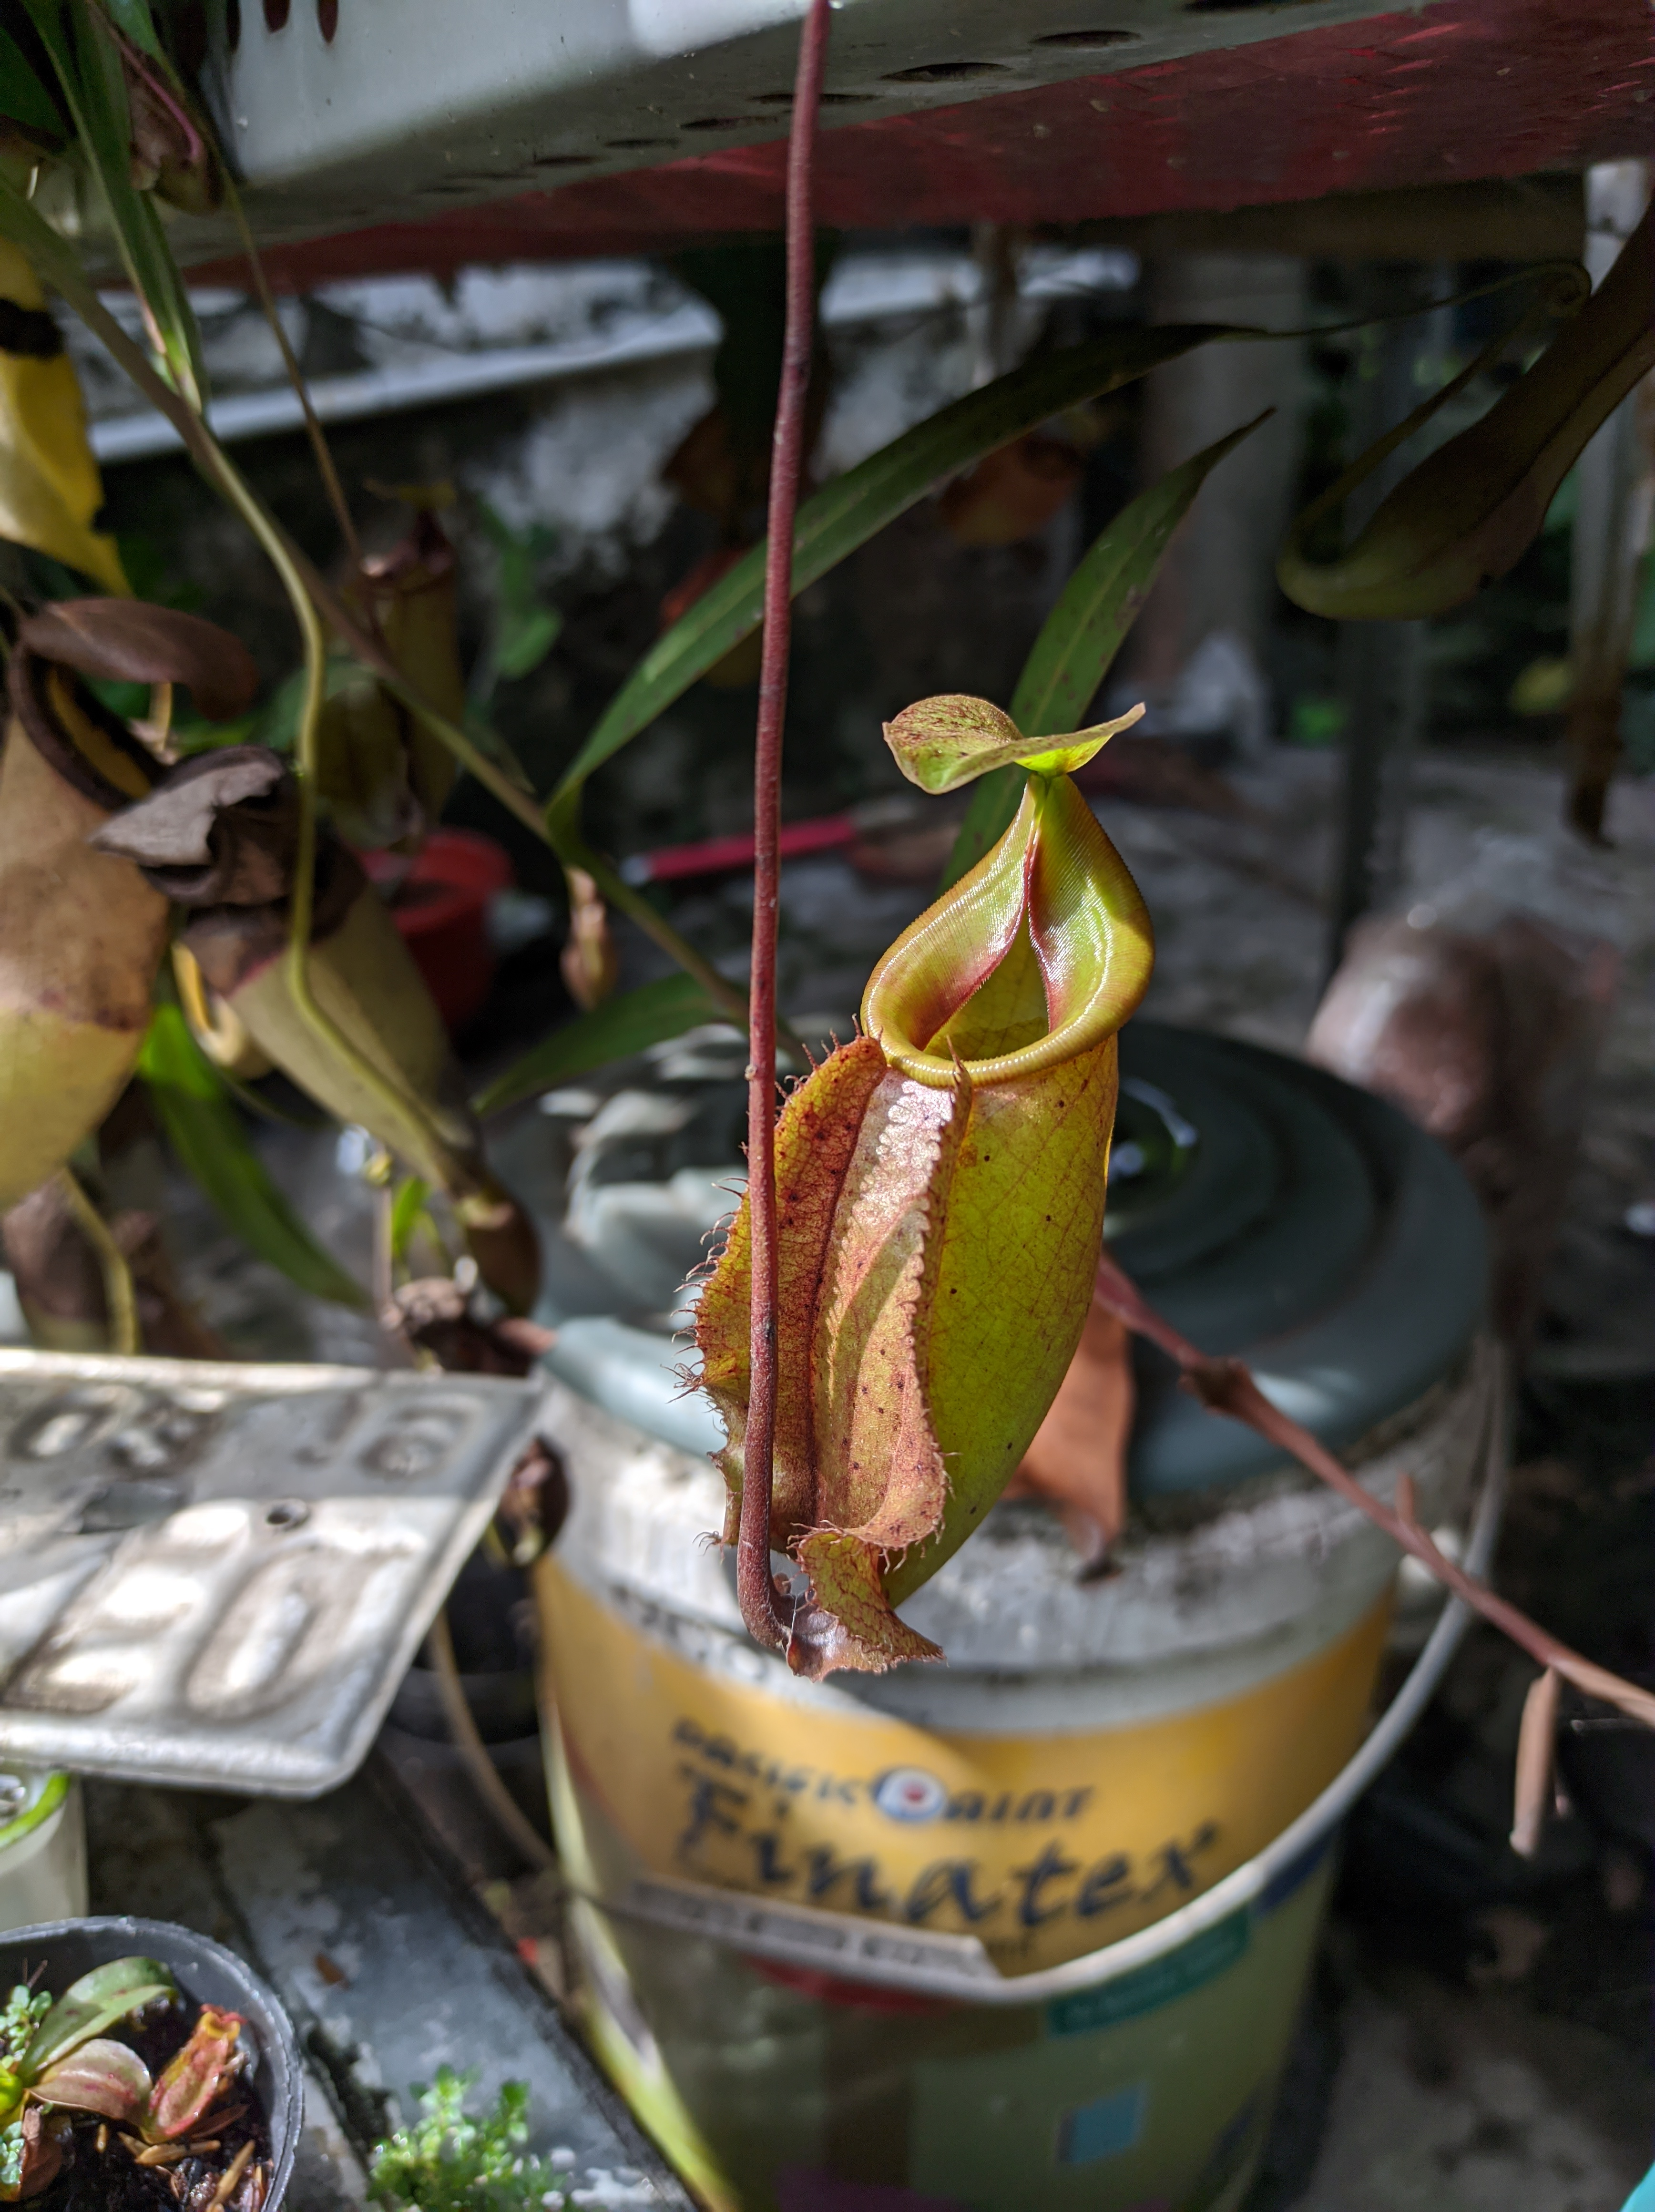Maxima: (633, 595, 1212, 1722)
